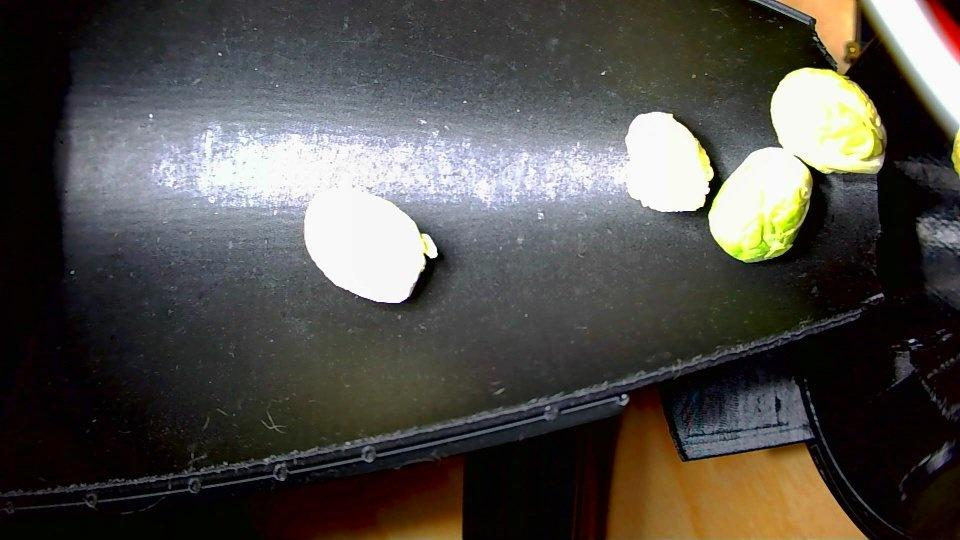berry: (304, 188, 437, 303), (771, 69, 886, 173), (708, 148, 812, 262), (625, 113, 713, 211)
